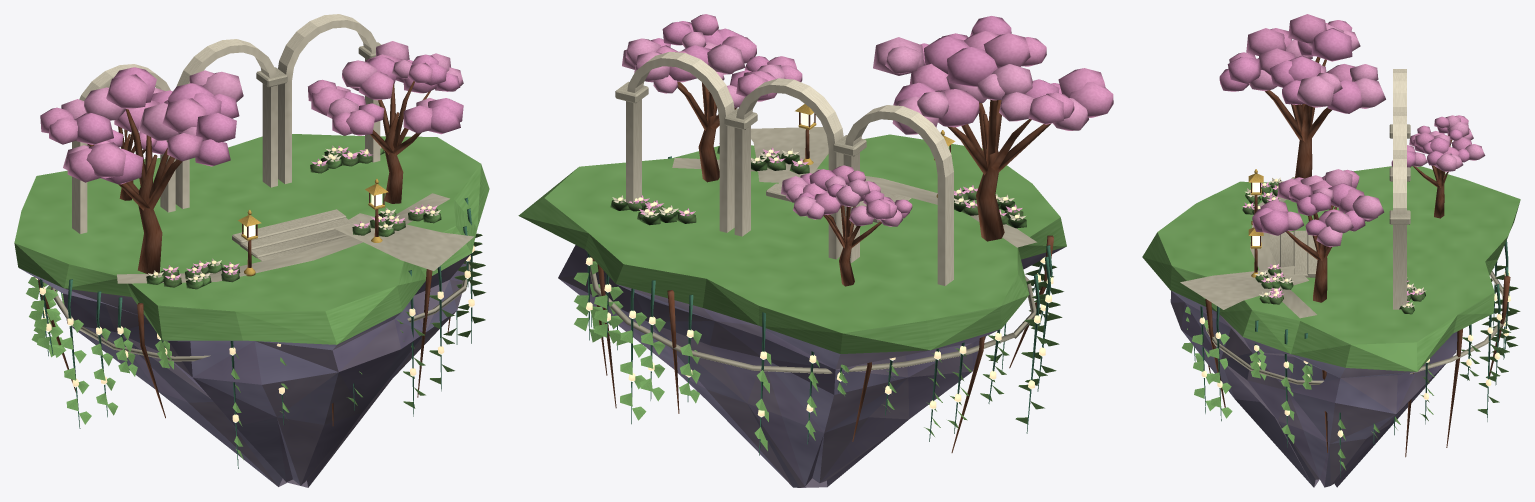
Rendered from sky-garden-balanced.glb.
3 views of the same model, side by side, from view 1: azimuth 30°, elevation 25°; view 2: azimuth 150°, elevation 25°; view 3: azimuth 270°, elevation 25° (orthographic). The views are drawn at different scales.
Parts seen in each view (by area): view 1: sky-garden; view 2: sky-garden; view 3: sky-garden.
Boxes of the visible parts, x1,y1,x2,y2 form: sky-garden: (14, 14, 489, 487); sky-garden: (518, 14, 1113, 487); sky-garden: (1142, 14, 1520, 487).
Size of the model in its own units: 13.41 by 12.46 by 10.78.
Materials: 9 (9 with a texture image).
